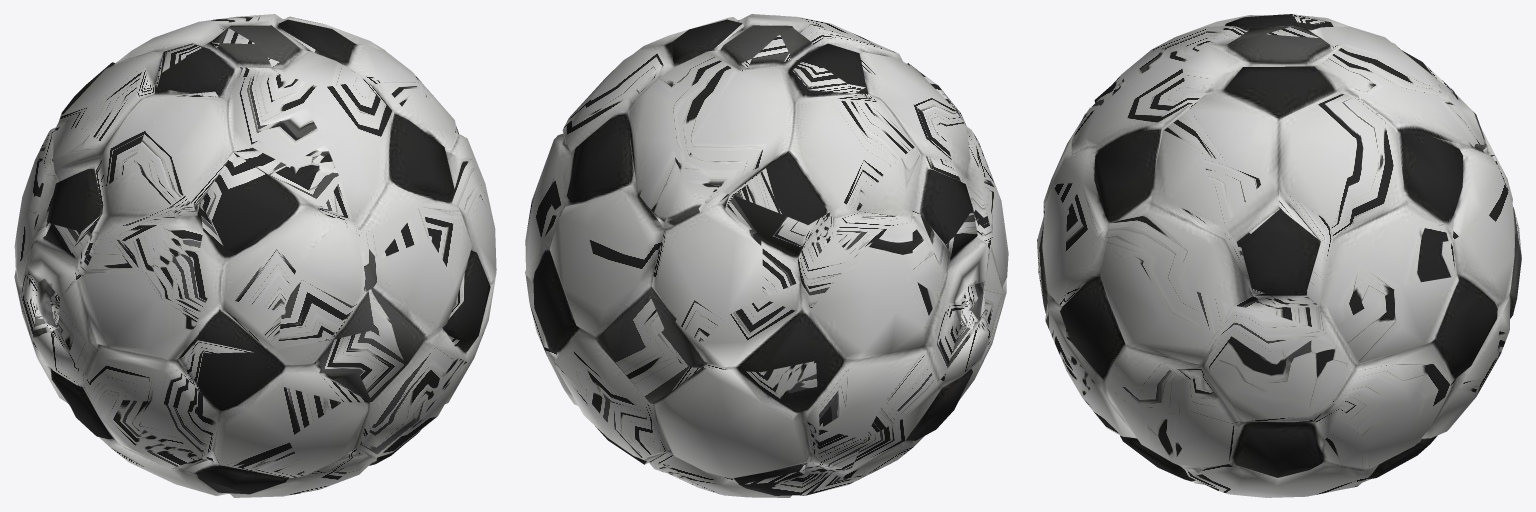
File: ball_soccer.glb
3 views of the same model, side by side, from view 1: azimuth 30°, elevation 25°; view 2: azimuth 150°, elevation 25°; view 3: azimuth 270°, elevation 25° (orthographic).
Visible parts, largest first — view 1: tripo_node_8b29a73b-a574-4aa1-9530-7dcb3615f9a6; view 2: tripo_node_8b29a73b-a574-4aa1-9530-7dcb3615f9a6; view 3: tripo_node_8b29a73b-a574-4aa1-9530-7dcb3615f9a6.
Boxes of the visible parts, x1,y1,x2,y2 form: tripo_node_8b29a73b-a574-4aa1-9530-7dcb3615f9a6: (14, 14, 496, 497); tripo_node_8b29a73b-a574-4aa1-9530-7dcb3615f9a6: (525, 14, 1008, 497); tripo_node_8b29a73b-a574-4aa1-9530-7dcb3615f9a6: (1037, 14, 1521, 497).
Bounding box in the file's own units: 0.9932 × 0.9966 × 0.9982.
1 material, 1 textured.
